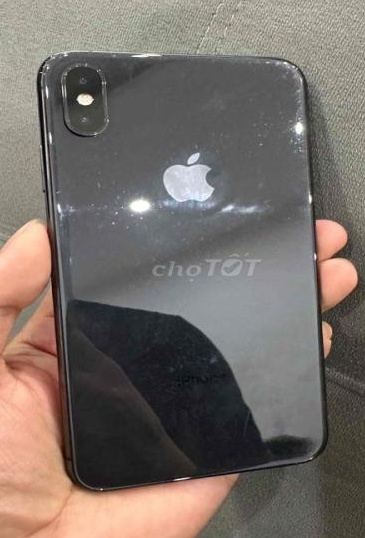scratch: (248, 53, 320, 163), (81, 181, 152, 254), (71, 124, 133, 167), (169, 212, 226, 258), (48, 188, 87, 235), (187, 128, 235, 164), (35, 42, 71, 86), (67, 56, 111, 88), (200, 51, 256, 73), (99, 46, 171, 63), (162, 465, 196, 486), (90, 477, 123, 496), (306, 180, 322, 213), (302, 245, 322, 271), (96, 110, 117, 134), (57, 254, 86, 269), (300, 447, 315, 466)
